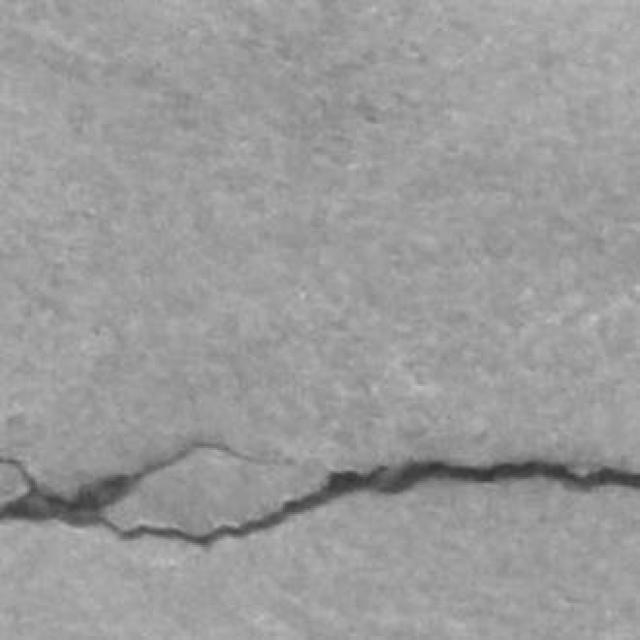crack: (0, 447, 639, 546)
